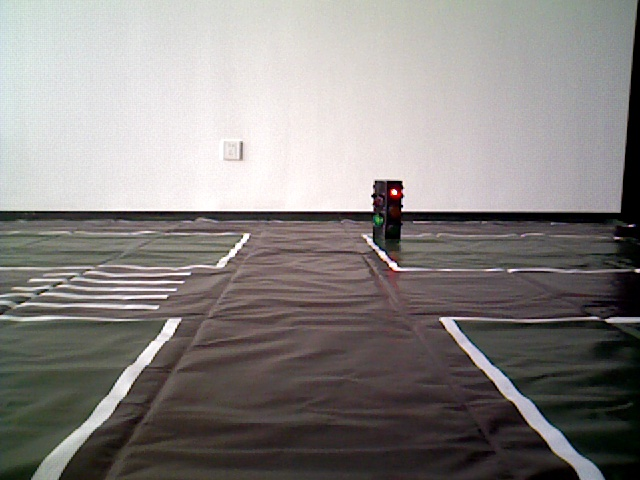red: (374, 181, 399, 243)
